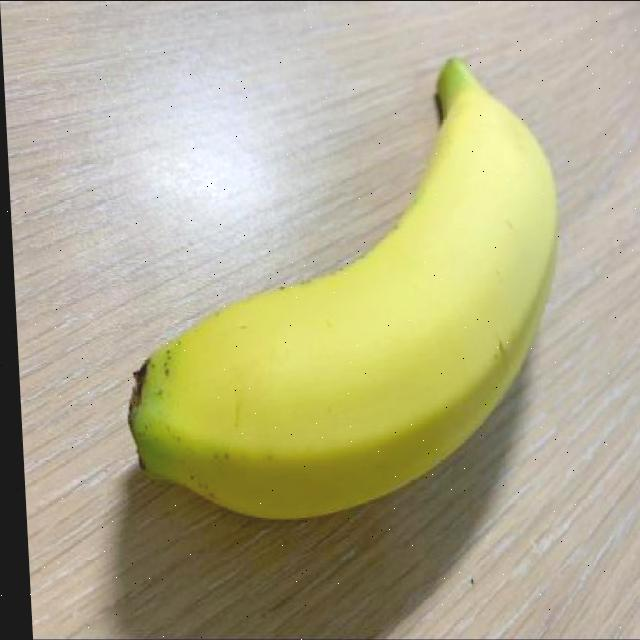banana: (102, 47, 582, 536)
